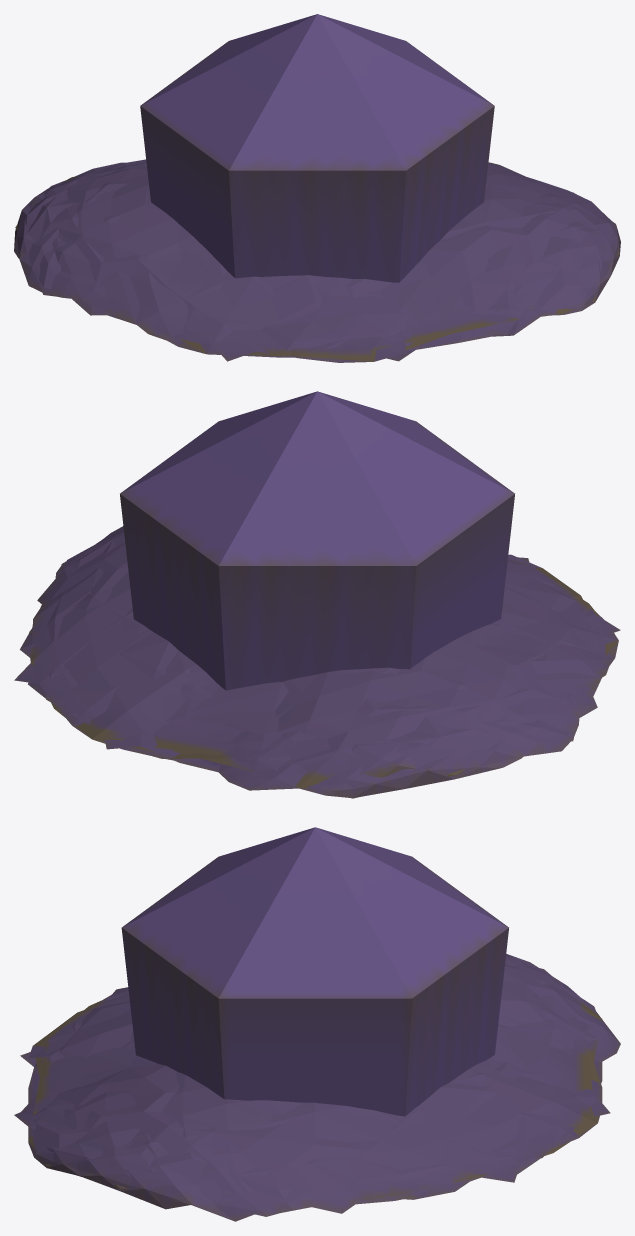
Rendered from SF_INCL_EXOTIC_PRISMATIC_TRUSS_V1.glb.
3 renders of one model, top to bottom at view 1: azimuth 30°, elevation 25°; view 2: azimuth 150°, elevation 25°; view 3: azimuth 270°, elevation 25°, orthographic. The views are drawn at different scales.
Visible parts, largest first — view 1: LOD0_SF_INCL_EXOTIC_PRISMATIC_TRUSS_V1, LOD1_SF_INCL_EXOTIC_PRISMATIC_TRUSS_V1, LOD2_SF_INCL_EXOTIC_PRISMATIC_TRUSS_V1; view 2: LOD0_SF_INCL_EXOTIC_PRISMATIC_TRUSS_V1, LOD1_SF_INCL_EXOTIC_PRISMATIC_TRUSS_V1, LOD2_SF_INCL_EXOTIC_PRISMATIC_TRUSS_V1; view 3: LOD0_SF_INCL_EXOTIC_PRISMATIC_TRUSS_V1, LOD1_SF_INCL_EXOTIC_PRISMATIC_TRUSS_V1, LOD2_SF_INCL_EXOTIC_PRISMATIC_TRUSS_V1.
Boxes of the visible parts, x1,y1,x2,y2 form: LOD0_SF_INCL_EXOTIC_PRISMATIC_TRUSS_V1: (14, 14, 620, 362); LOD1_SF_INCL_EXOTIC_PRISMATIC_TRUSS_V1: (15, 159, 619, 361); LOD2_SF_INCL_EXOTIC_PRISMATIC_TRUSS_V1: (179, 223, 575, 360); LOD0_SF_INCL_EXOTIC_PRISMATIC_TRUSS_V1: (14, 391, 620, 798); LOD1_SF_INCL_EXOTIC_PRISMATIC_TRUSS_V1: (29, 530, 618, 798); LOD2_SF_INCL_EXOTIC_PRISMATIC_TRUSS_V1: (31, 559, 618, 772); LOD0_SF_INCL_EXOTIC_PRISMATIC_TRUSS_V1: (14, 827, 620, 1221); LOD1_SF_INCL_EXOTIC_PRISMATIC_TRUSS_V1: (28, 964, 602, 1215); LOD2_SF_INCL_EXOTIC_PRISMATIC_TRUSS_V1: (33, 1024, 597, 1177).
Size of the model in its own units: 0.9243 by 0.4139 by 0.877.
1 material, 1 textured.
